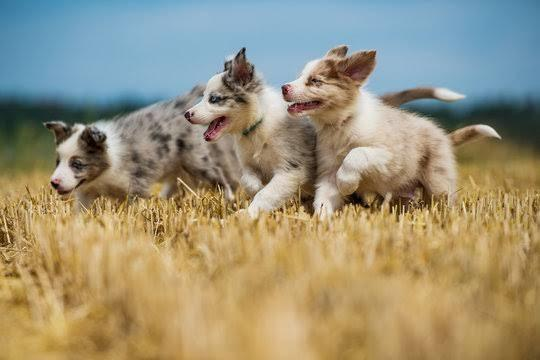puppy-dog: (281, 44, 502, 225), (43, 86, 243, 216), (184, 47, 329, 225)
